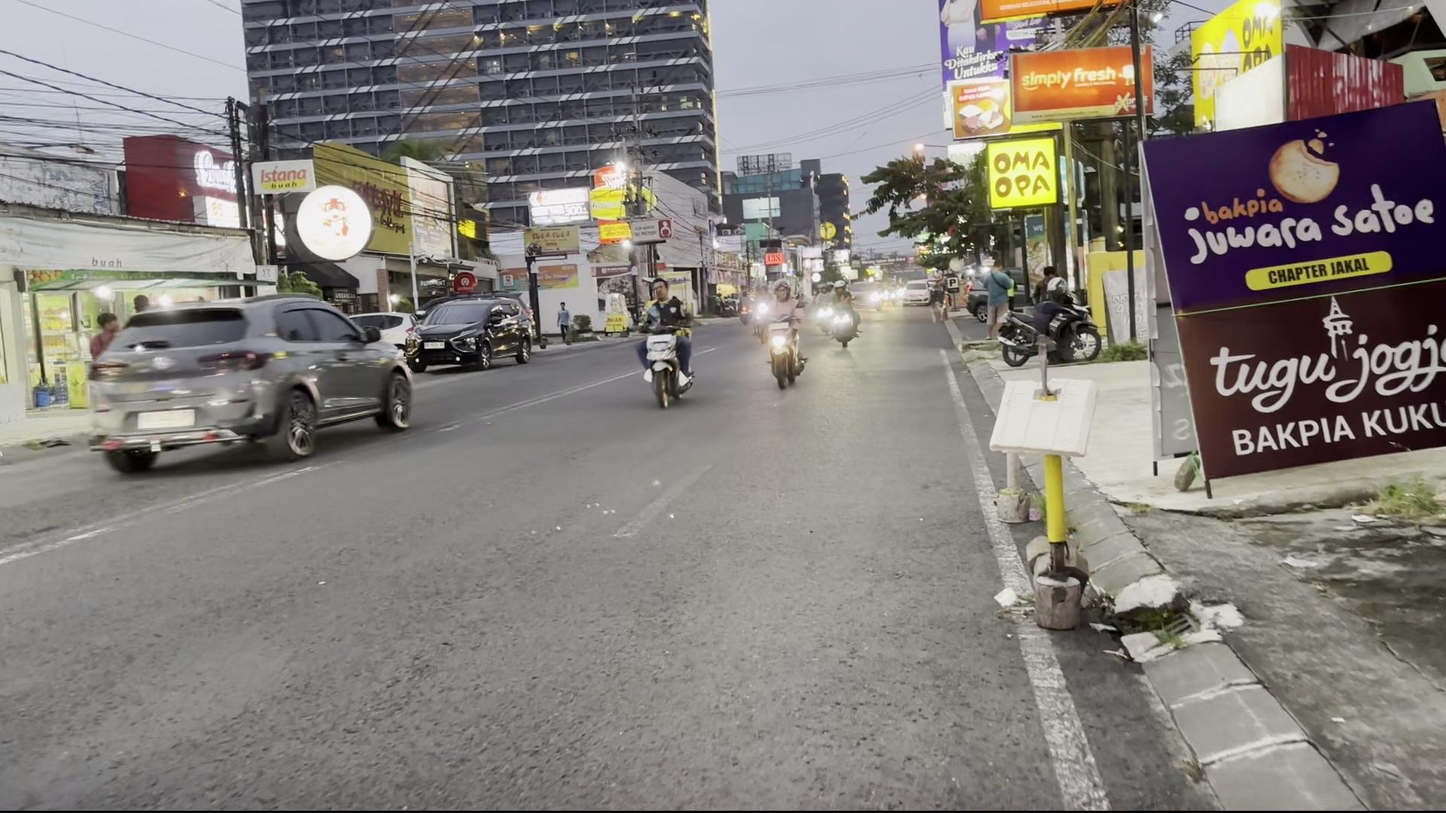helm: (650, 276, 672, 303)
riding: (632, 275, 701, 416)
